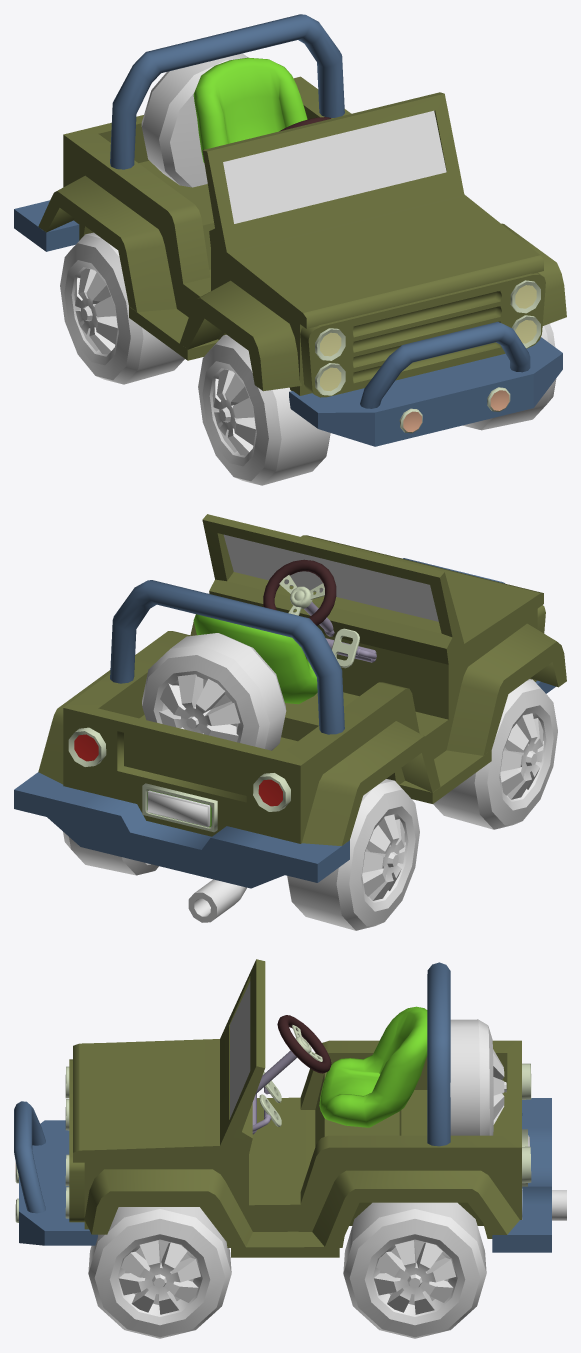
File: 4x4_enemy_fracturado.fbx
3 renders of one model, top to bottom at view 1: azimuth 30°, elevation 25°; view 2: azimuth 150°, elevation 25°; view 3: azimuth 270°, elevation 25°, orthographic. The views are drawn at different scales.
Parts seen in each view (by area): view 1: 4x4, 4x4_Window, WheelFrontRight, WheelRearRight, 4x4_BackTire, MagsRearRight, MagsFrontRight, 4x4_Headlights, WheelFrontLeft, 4x4_FogLights; view 2: 4x4, 4x4_BackTire, WheelRearRight, WheelFrontRight, 4x4_Window, 4x4_BackTireMags, MagsFrontRight, MagsRearRight, 4x4_ExhaustPipe, 4x4_LicensePlate, WheelRearLeft, 4x4_Taillights; view 3: 4x4, WheelRearLeft, WheelFrontLeft, 4x4_BackTire, MagsRearLeft, MagsFrontLeft, 4x4_Window, 4x4_BackTireMags, 4x4_ExhaustPipe.
Boxes of the visible parts, bbox=[...] form: 4x4: bbox=[14, 14, 566, 446]; 4x4_Window: bbox=[223, 110, 446, 223]; WheelFrontRight: bbox=[198, 334, 330, 485]; WheelRearRight: bbox=[60, 232, 184, 384]; 4x4_BackTire: bbox=[141, 53, 247, 187]; MagsRearRight: bbox=[74, 268, 117, 354]; MagsFrontRight: bbox=[212, 369, 255, 455]; 4x4_Headlights: bbox=[320, 285, 536, 391]; WheelFrontLeft: bbox=[463, 323, 556, 430]; 4x4_FogLights: bbox=[403, 390, 509, 432]; 4x4: bbox=[14, 514, 566, 888]; 4x4_BackTire: bbox=[142, 633, 286, 750]; WheelRearRight: bbox=[287, 779, 419, 930]; WheelFrontRight: bbox=[433, 679, 557, 829]; 4x4_Window: bbox=[223, 534, 438, 621]; 4x4_BackTireMags: bbox=[159, 674, 240, 742]; MagsFrontRight: bbox=[500, 713, 543, 799]; MagsRearRight: bbox=[362, 814, 405, 900]; 4x4_ExhaustPipe: bbox=[188, 879, 246, 922]; 4x4_LicensePlate: bbox=[147, 790, 210, 827]; WheelRearLeft: bbox=[63, 832, 158, 875]; 4x4_Taillights: bbox=[74, 734, 282, 806]; 4x4: bbox=[14, 959, 551, 1257]; WheelRearLeft: bbox=[343, 1202, 486, 1338]; WheelFrontLeft: bbox=[88, 1207, 231, 1338]; 4x4_BackTire: bbox=[450, 1019, 493, 1135]; MagsRearLeft: bbox=[373, 1240, 455, 1314]; MagsFrontLeft: bbox=[118, 1240, 200, 1314]; 4x4_Window: bbox=[230, 981, 250, 1118]; 4x4_BackTireMags: bbox=[493, 1049, 506, 1124]; 4x4_ExhaustPipe: bbox=[522, 1190, 566, 1220].
Size of the model in its own units: 186 by 173 by 310.
